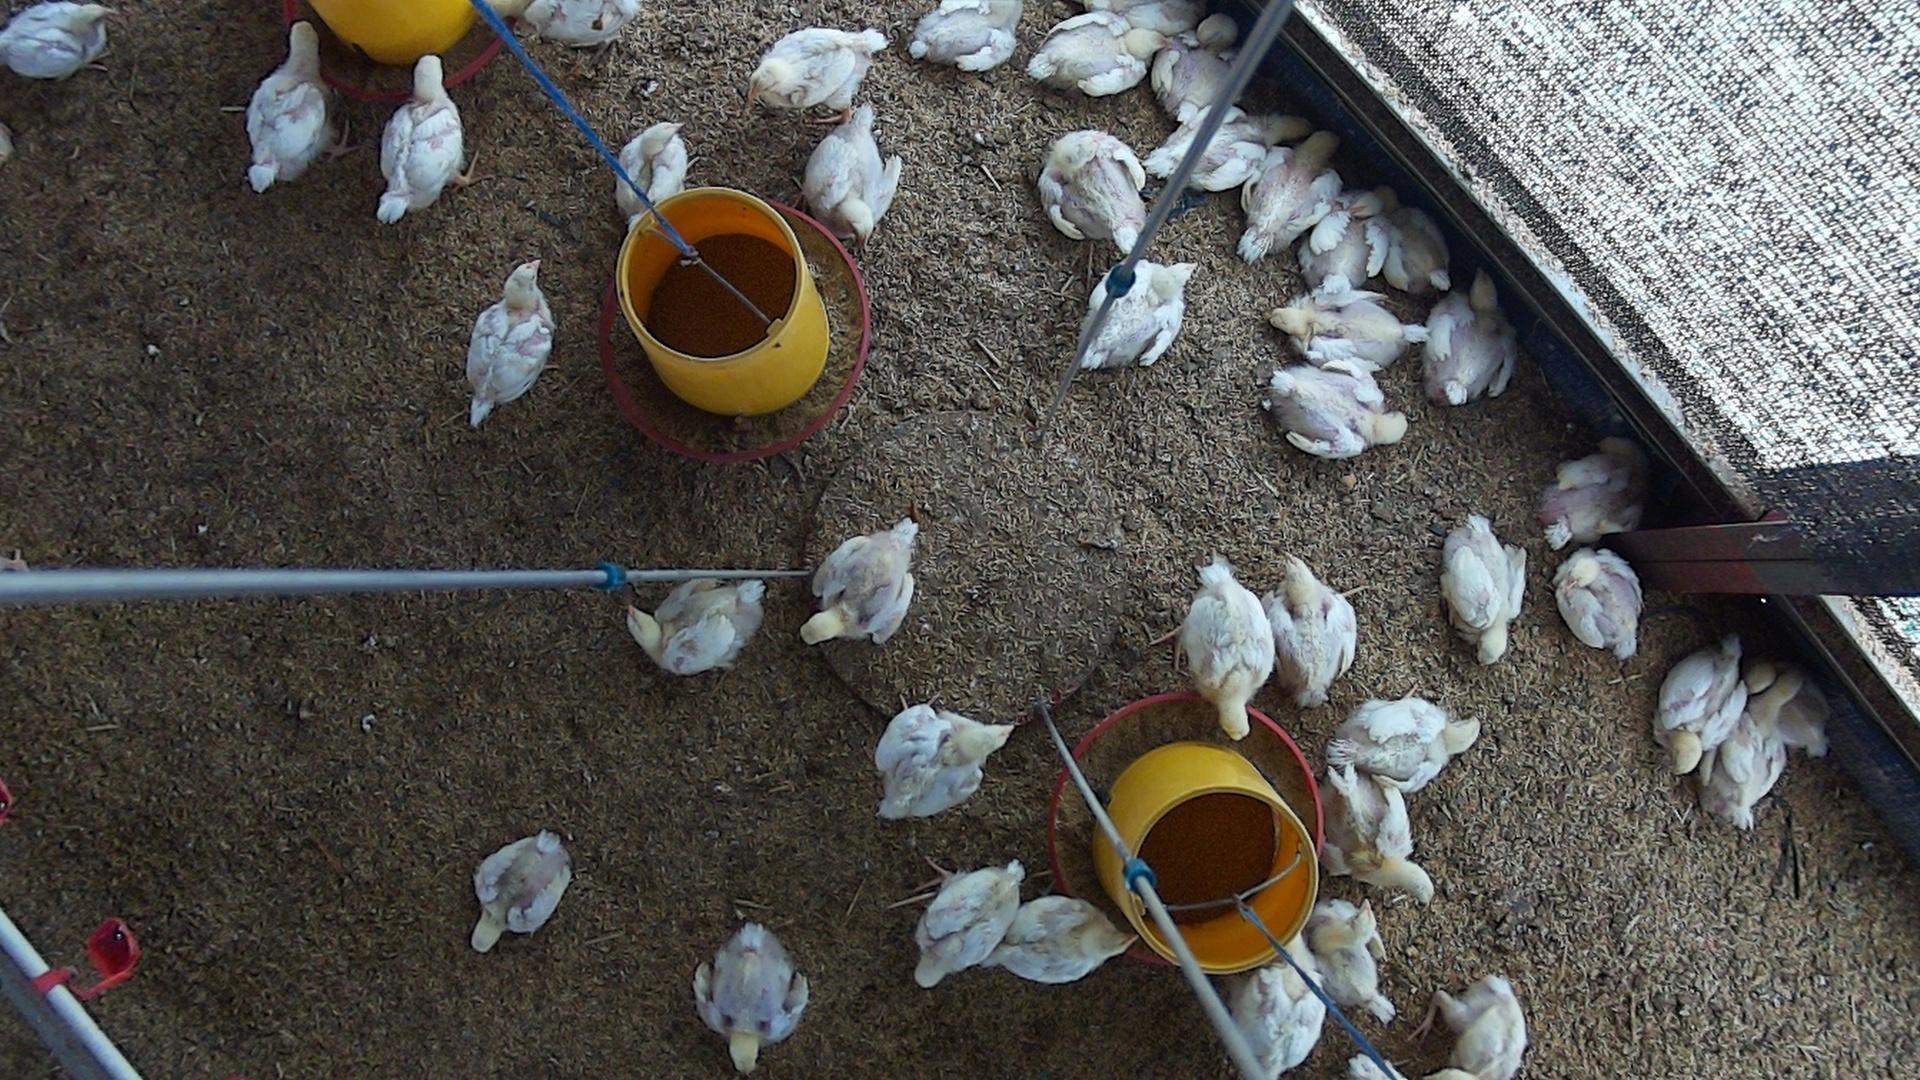ayam_broiler: (1182, 555, 1278, 740), (695, 923, 810, 1075), (1323, 753, 1433, 903), (876, 704, 1013, 818), (376, 53, 464, 223), (467, 260, 555, 427), (802, 520, 919, 645), (245, 20, 331, 190), (915, 860, 1025, 986), (1332, 696, 1480, 789), (1040, 129, 1149, 252), (1706, 674, 1791, 831), (806, 102, 902, 239), (628, 576, 765, 673), (1275, 289, 1428, 375), (986, 895, 1133, 984), (1270, 559, 1357, 707), (1080, 258, 1197, 368), (1240, 132, 1340, 260), (1655, 636, 1747, 774), (1147, 105, 1300, 189), (1026, 11, 1171, 98), (1441, 514, 1526, 663), (1425, 268, 1516, 405), (1290, 898, 1391, 1019), (1273, 365, 1407, 456), (471, 831, 570, 951), (1230, 960, 1325, 1080), (753, 26, 887, 107), (1540, 448, 1639, 549), (1435, 976, 1527, 1080), (1153, 15, 1242, 121), (1300, 186, 1389, 293), (1556, 547, 1640, 658), (0, 1, 109, 76), (910, 0, 1023, 71), (1369, 203, 1452, 294), (616, 121, 687, 215), (520, 0, 642, 45)
